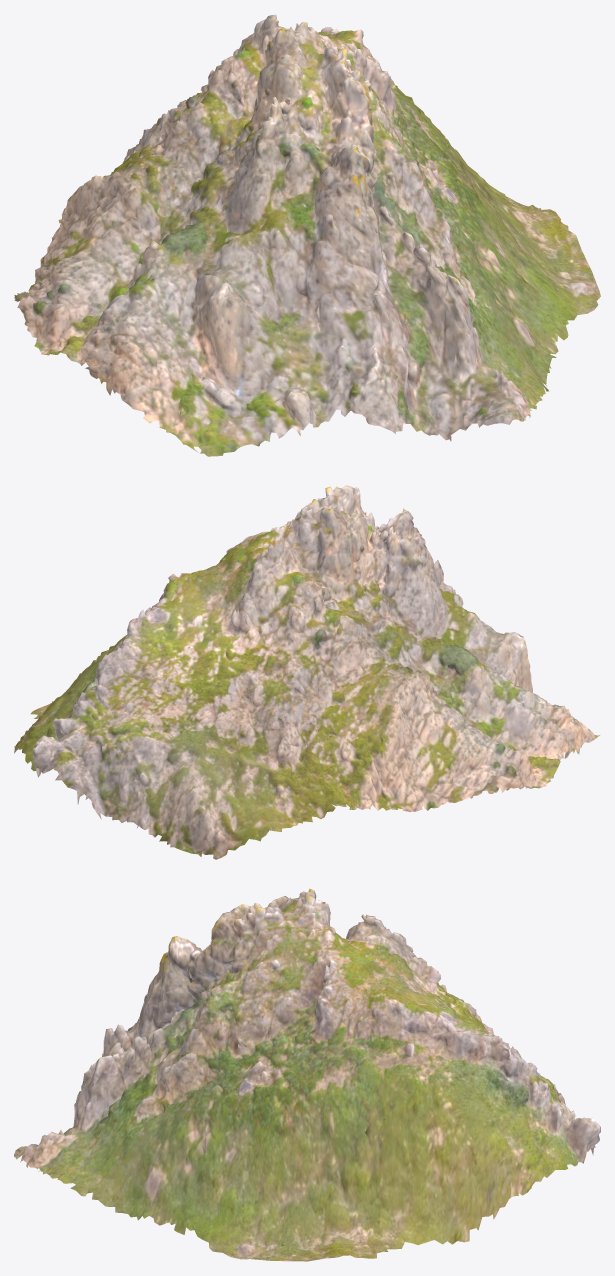
The model's file is Mountain.glb.
The picture shows the model from 3 angles, top to bottom: view 1: azimuth 30°, elevation 25°; view 2: azimuth 150°, elevation 25°; view 3: azimuth 270°, elevation 25°; orthographic projection. The views are drawn at different scales.
Parts seen in each view (by area): view 1: Object_4; view 2: Object_4; view 3: Object_4.
Boxes of the visible parts, box(x1,y1,x2,y2) form: Object_4: box(14, 14, 600, 456); Object_4: box(14, 485, 599, 859); Object_4: box(14, 888, 600, 1261).
Size of the model in its own units: 46.13 by 25.51 by 49.63.
Materials: 1 (1 with a texture image).
